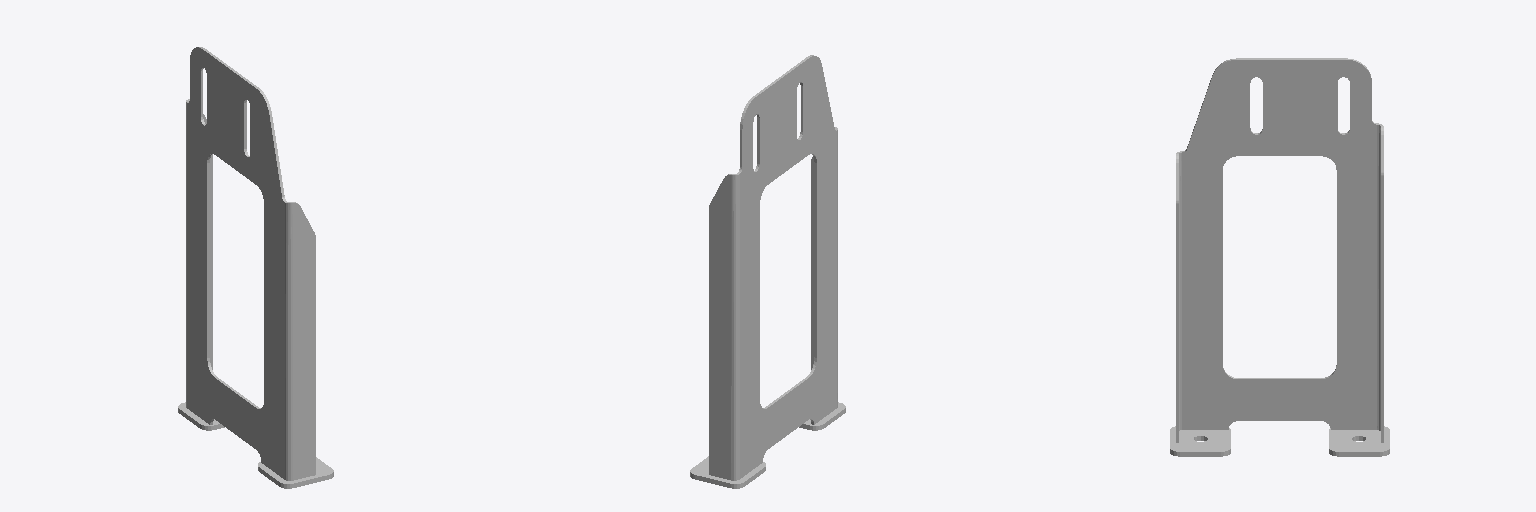
The model's file is wspornik_dlugi_prawy.obj.
The picture shows the model from 3 angles: view 1: azimuth 30°, elevation 25°; view 2: azimuth 150°, elevation 25°; view 3: azimuth 270°, elevation 25°; orthographic projection.
Visible parts, largest first — view 1: Bryła397; view 2: Bryła397; view 3: Bryła397.
Boxes of the visible parts, <box> form: Bryła397: <box>178,47,333,488</box>; Bryła397: <box>690,55,845,488</box>; Bryła397: <box>1170,58,1389,456</box>.
Bounding box in the file's own units: 60 × 404 × 215.